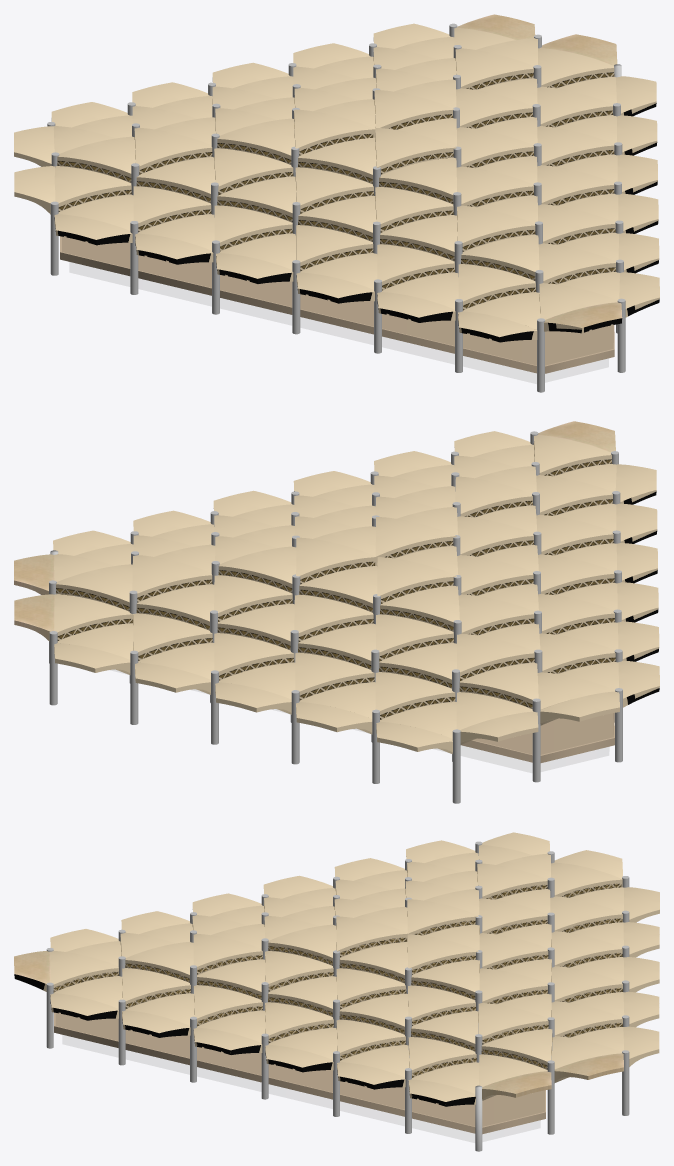
Rendered from OERKt2.gltf.
3 renders of one model, top to bottom at view 1: azimuth 30°, elevation 25°; view 2: azimuth 150°, elevation 25°; view 3: azimuth 270°, elevation 25°, orthographic. The views are drawn at different scales.
Visible parts, largest first — view 1: z_roof.top.new.008, Bottom Conc Bar.001, z_roof.top.new.006, z_roof.top.m.076, height.001, Bottom Conc Bar, z_roof.top.m.079, z_roof.top.m.077, z_roof.top.m.056, z_roof.top.m.068, z_roof.top.m.070, z_roof.top.m.039 (+71 smaller); view 2: z_roof.top.new.008, z_roof.top.m.076, z_roof.top.new.006, height.001, z_roof.top.m.079, z_roof.top.m.077, Bottom Conc Bar.001, z_roof.top.m.035, z_roof.top.m.067, z_roof.top.m.030, z_roof.top.m.031, z_roof.top.m.034 (+72 smaller); view 3: Bottom Conc Bar.001, z_roof.top.new.006, z_roof.top.new.008, z_roof.top.m.076, height.001, Bottom Conc Bar, z_roof.top.m.077, z_roof.top.m.079, z_roof.top.m.067, z_roof.top.m.056, z_roof.top.m.070, z_roof.top.m.066 (+72 smaller).
Part boxes in pixels (box(x1,y1,x2,y2)): z_roof.top.new.008: box(54, 214, 537, 342); Bottom Conc Bar.001: box(62, 159, 613, 365); z_roof.top.new.006: box(616, 76, 659, 317); z_roof.top.m.076: box(51, 23, 450, 127); height.001: box(47, 23, 625, 392); Bottom Conc Bar: box(60, 236, 614, 373); z_roof.top.m.079: box(14, 126, 55, 214); z_roof.top.m.077: box(456, 14, 617, 65); z_roof.top.m.056: box(375, 128, 456, 174); z_roof.top.m.068: box(134, 127, 212, 174); z_roof.top.m.070: box(457, 205, 535, 251); z_roof.top.m.039: box(214, 148, 293, 195); z_roof.top.new.008: box(615, 464, 659, 707); z_roof.top.m.076: box(54, 643, 452, 753); z_roof.top.new.006: box(53, 431, 532, 555); height.001: box(49, 431, 622, 803); z_roof.top.m.079: box(460, 691, 619, 744); z_roof.top.m.077: box(14, 554, 54, 641); Bottom Conc Bar.001: box(473, 713, 613, 754); z_roof.top.m.035: box(375, 672, 455, 719); z_roof.top.m.067: box(132, 555, 212, 602); z_roof.top.m.030: box(214, 633, 294, 680); z_roof.top.m.031: box(133, 613, 212, 660); z_roof.top.m.034: box(295, 652, 374, 700); Bottom Conc Bar.001: box(55, 968, 544, 1126); z_roof.top.new.006: box(50, 993, 475, 1106); z_roof.top.new.008: box(50, 840, 475, 951); z_roof.top.m.076: box(623, 887, 659, 1066); height.001: box(46, 841, 629, 1151); Bottom Conc Bar: box(54, 1012, 545, 1134); z_roof.top.m.077: box(482, 1053, 623, 1100); z_roof.top.m.079: box(482, 832, 622, 878); z_roof.top.m.067: box(478, 1003, 548, 1044); z_roof.top.m.056: box(336, 916, 409, 957); z_roof.top.m.070: box(193, 934, 262, 975); z_roof.top.m.066: box(481, 1028, 552, 1069).
Bounding box in the file's own units: 181 × 32.17 × 189.
